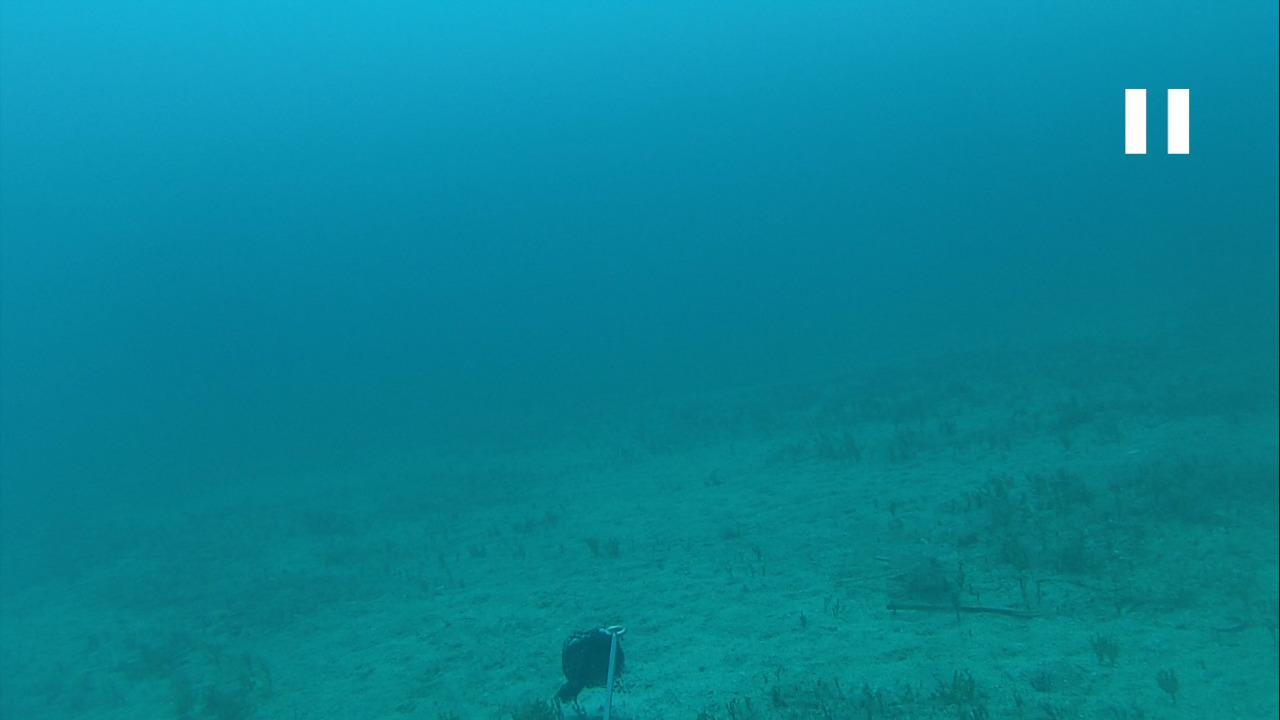dactylopterus: (814, 507, 964, 611)
